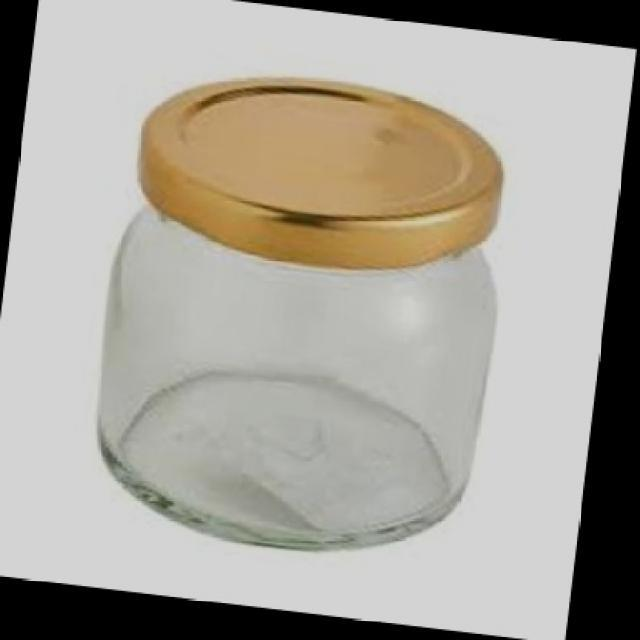Glass: (97, 77, 503, 551)
